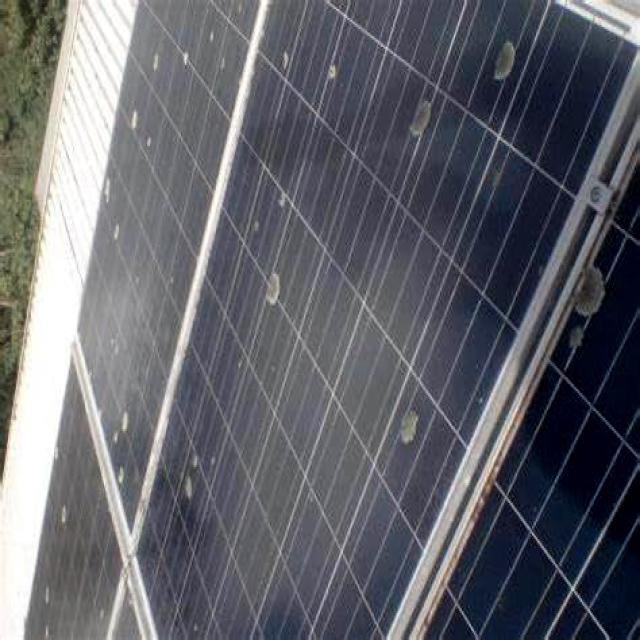dust: (397, 34, 517, 160), (232, 178, 300, 358), (98, 104, 160, 281), (278, 27, 367, 121), (558, 232, 602, 396), (87, 355, 143, 475), (360, 386, 458, 447), (138, 17, 234, 73), (179, 441, 226, 517)
